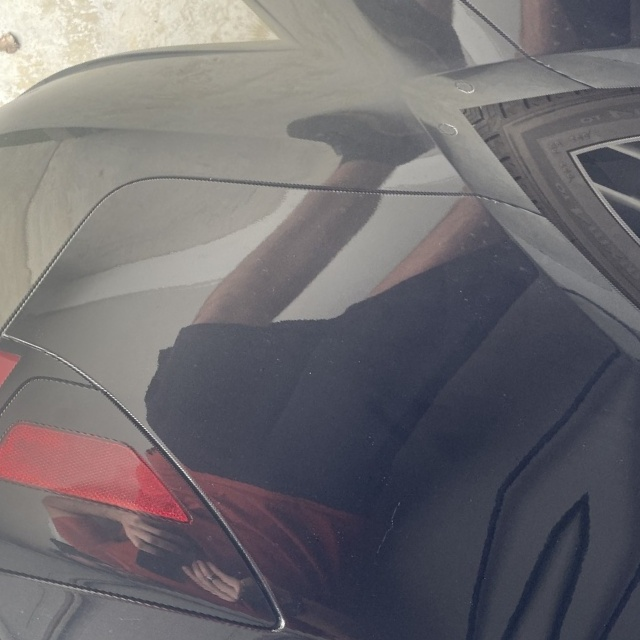reflector: (0, 398, 209, 552)
